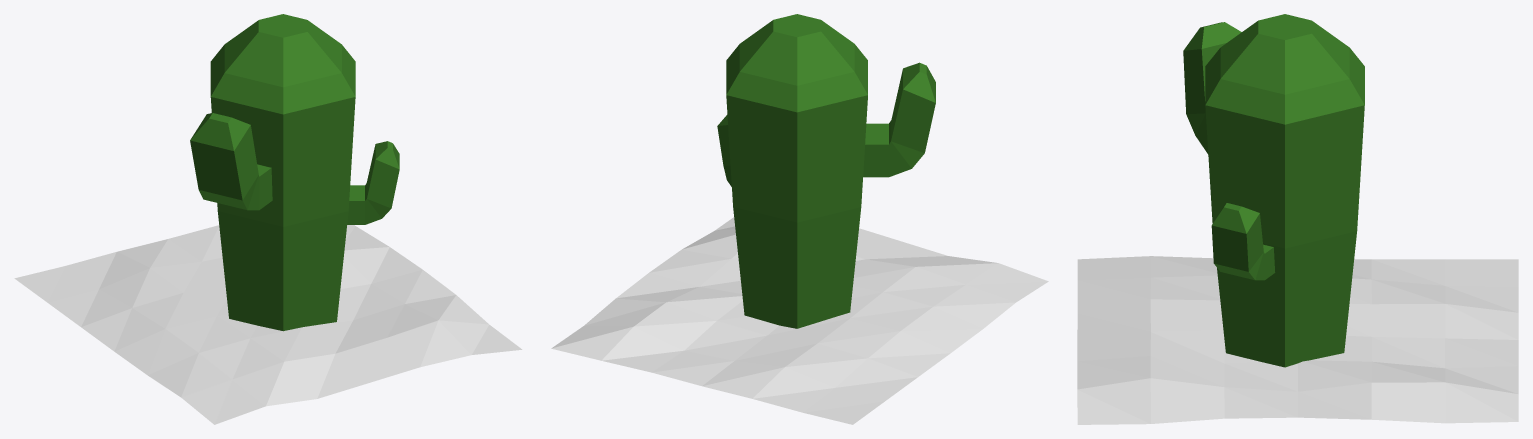
The model's file is SelectLevel_Level2.FBX.
3 views of the same model, side by side, from view 1: azimuth 30°, elevation 25°; view 2: azimuth 150°, elevation 25°; view 3: azimuth 270°, elevation 25° (orthographic). The views are drawn at different scales.
Parts seen in each view (by area): view 1: Plane001, Cylinder004, Object010, Object011; view 2: Plane001, Cylinder004, Object010, Object011; view 3: Plane001, Cylinder004, Object011, Object010.
Part boxes in pixels (x1,y1,x2,y2): Plane001: (14, 225, 522, 424); Cylinder004: (210, 14, 355, 331); Object010: (190, 113, 272, 210); Object011: (347, 141, 399, 224); Plane001: (551, 217, 1048, 424); Cylinder004: (726, 14, 867, 328); Object010: (863, 62, 935, 177); Object011: (717, 115, 731, 186); Plane001: (1077, 256, 1518, 424); Cylinder004: (1205, 14, 1364, 367); Object011: (1211, 203, 1275, 280); Object010: (1183, 22, 1241, 154).
Size of the model in its own units: 2138 by 1939 by 2403.
